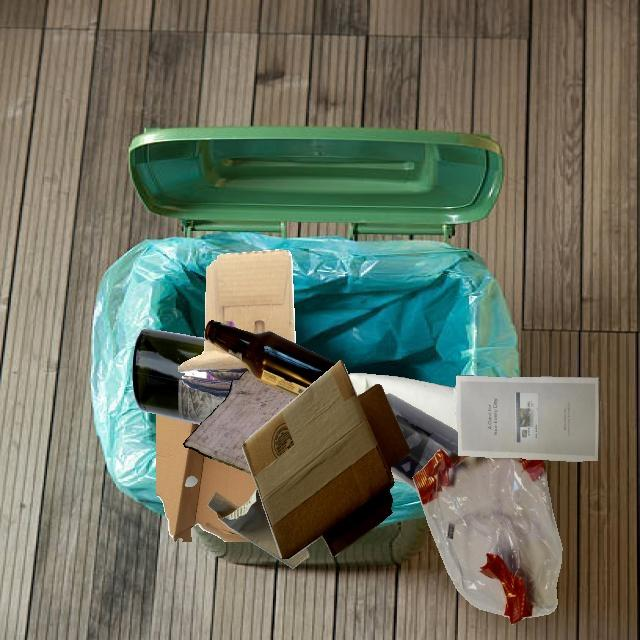cardboard: (242, 360, 410, 559), (156, 414, 257, 542), (205, 249, 296, 344), (207, 488, 309, 569), (178, 338, 250, 398)
glass: (204, 320, 336, 397), (132, 330, 226, 424)
paper: (455, 375, 601, 462), (184, 370, 296, 475), (348, 373, 458, 431)
plastic: (412, 449, 562, 625), (385, 393, 461, 491)
